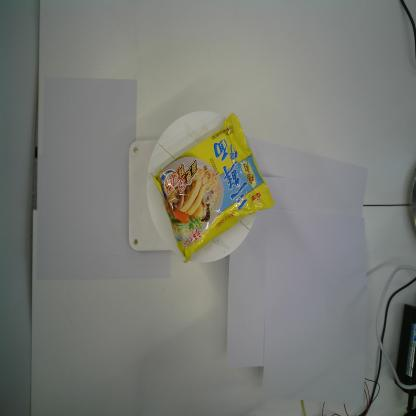Instant Noodles: (149, 113, 276, 266)
